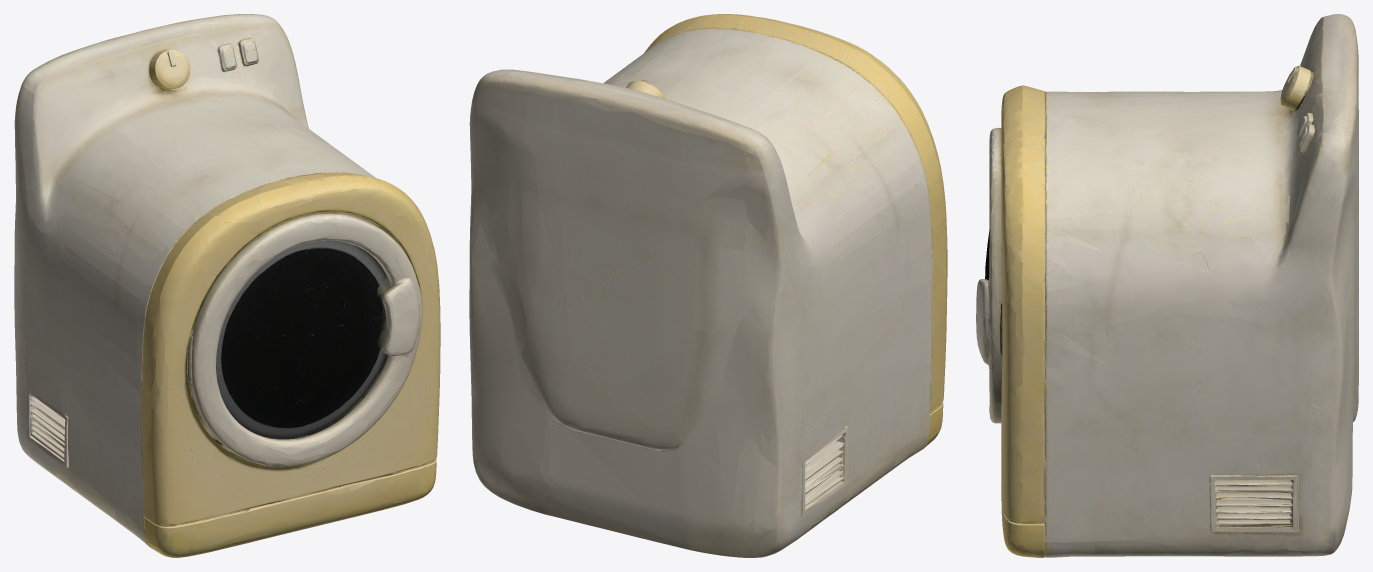
Rendered from dryer.glb.
3 renders of one model, left to right at view 1: azimuth 30°, elevation 25°; view 2: azimuth 150°, elevation 25°; view 3: azimuth 270°, elevation 25°, orthographic. The views are drawn at different scales.
Size of the model in its own units: 1.47 by 1.9 by 1.54.
Materials: 1 (1 with a texture image).
